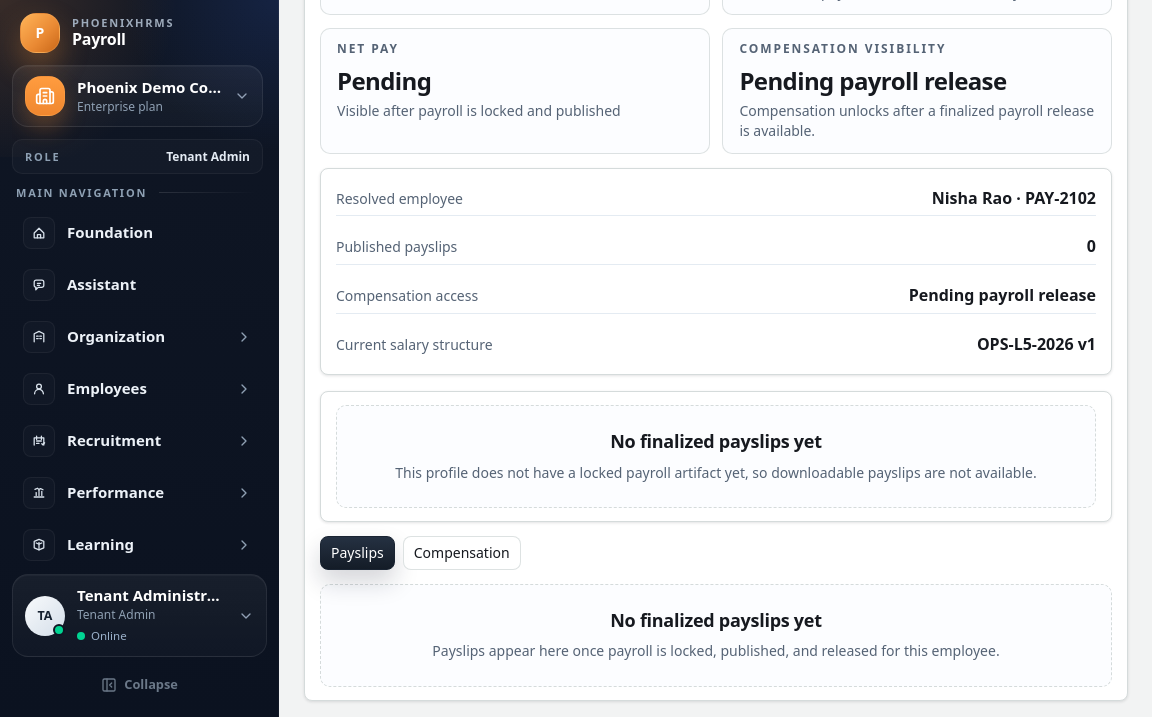
it: PayrollSelfServicePage › shows the no-payslip state when the resolved payroll profile has no finalized release yet
This screenshot has width=1152, height=717.
(page scrolled)
Expected: the heading "No finalized payslips yet" below "OPS-L5-2026 v1" is shown, [610,429,822,453]
Click the tab "Compensation" at (462,553), box [403,536,521,570]
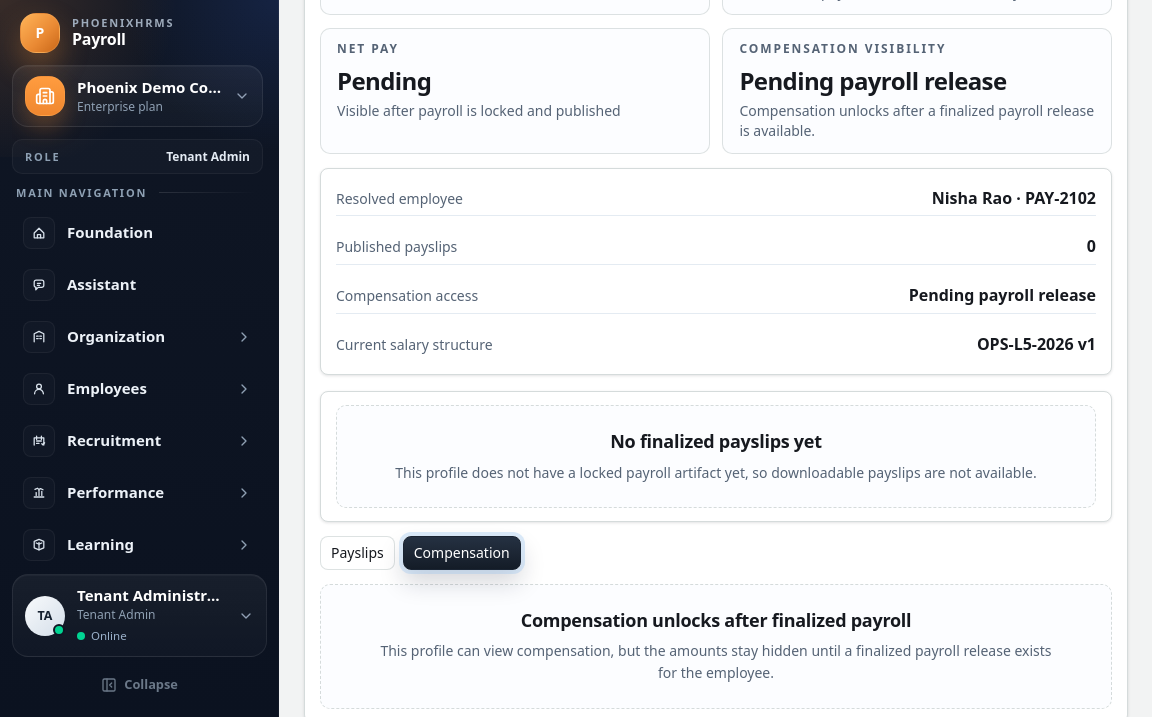
Result: the heading "Compensation unlocks after finalized payroll" is shown at [521,608,911,632]
